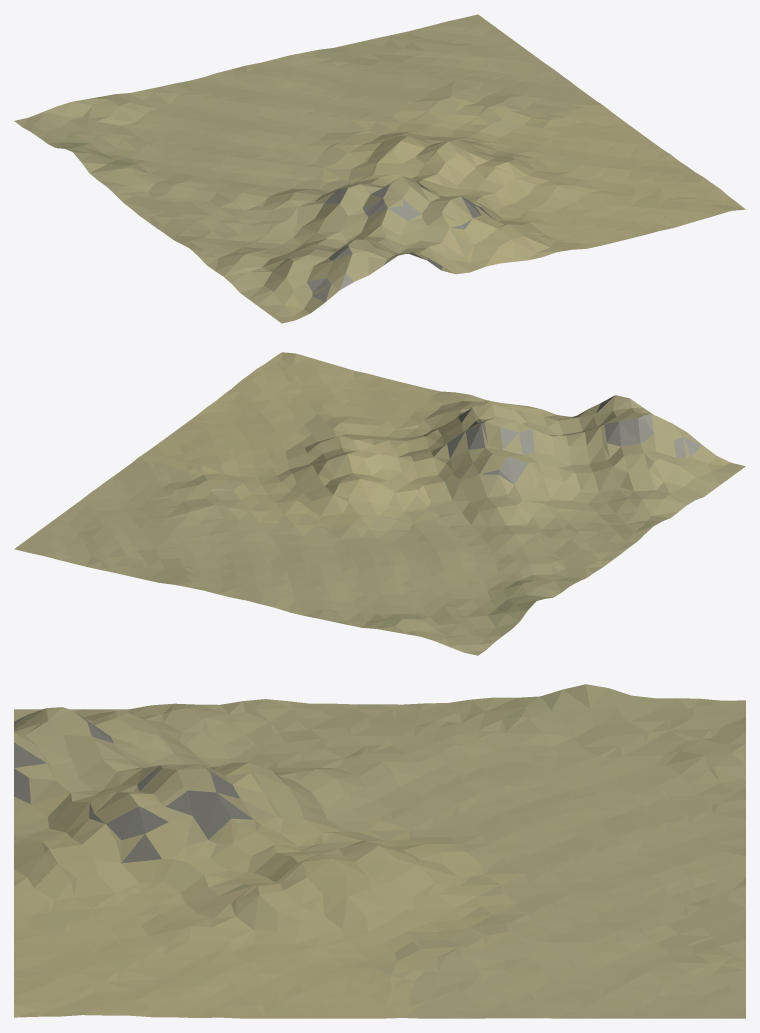
File: Ground_4_-6.glb
3 renders of one model, top to bottom at view 1: azimuth 30°, elevation 25°; view 2: azimuth 150°, elevation 25°; view 3: azimuth 270°, elevation 25°, orthographic. The views are drawn at different scales.
Parts seen in each view (by area): view 1: Ground_4_-6; view 2: Ground_4_-6; view 3: Ground_4_-6.
Part boxes in pixels (bbox=[...]): Ground_4_-6: bbox=[14, 14, 745, 323]; Ground_4_-6: bbox=[14, 352, 745, 655]; Ground_4_-6: bbox=[14, 684, 745, 1018].
Size of the model in its own units: 768 by 78.14 by 768.
